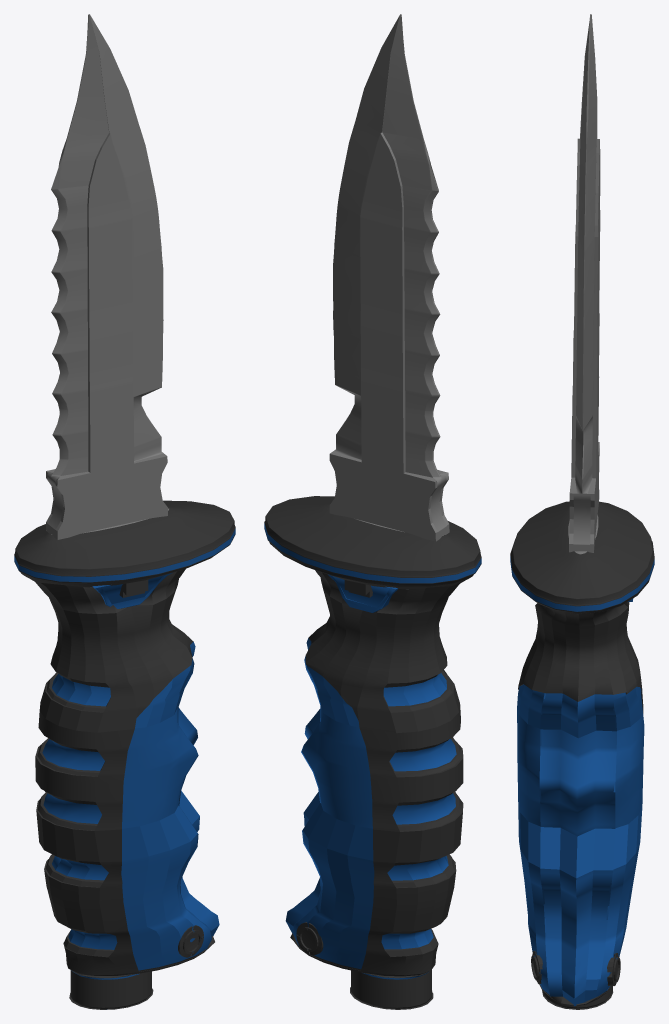
Rendered from Knife.obj.
3 renders of one model, left to right at view 1: azimuth 30°, elevation 25°; view 2: azimuth 150°, elevation 25°; view 3: azimuth 270°, elevation 25°, orthographic.
Parts seen in each view (by area): view 1: pasted__side3 group; view 2: pasted__side3 group; view 3: pasted__side3 group.
Boxes of the visible parts, x1,y1,x2,y2 form: pasted__side3 group: (14, 14, 235, 1009); pasted__side3 group: (264, 14, 481, 1009); pasted__side3 group: (510, 14, 654, 1009).
Bounding box in the file's own units: 3 × 13.72 × 1.83.
